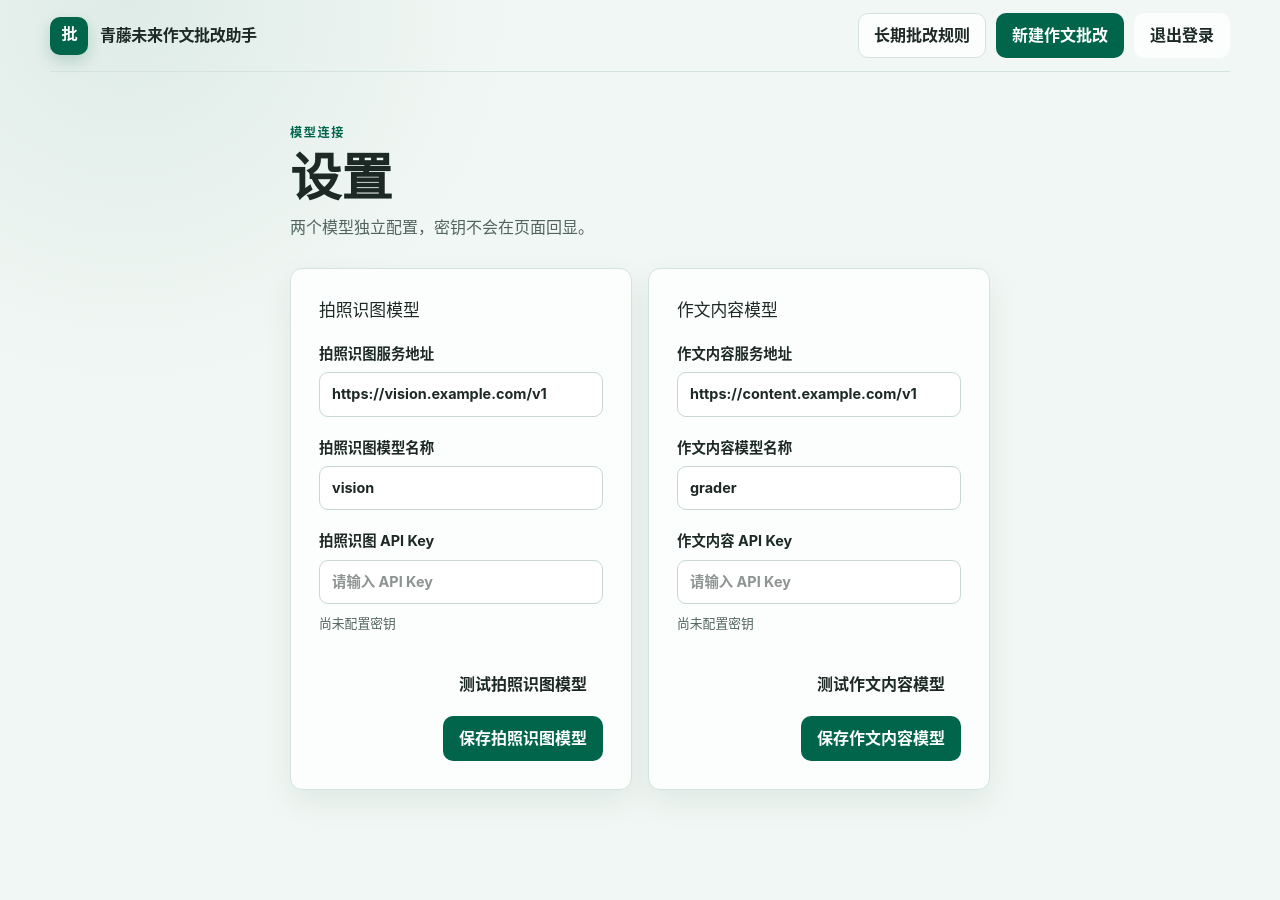
设置页 › 测试连接失败时展示服务端错误
Check: the field showing "grader" is shown, box [677,466,961,510]
In the password field labelled "作文内容 API Key": (819, 582) [677,560,961,604], type "secret"
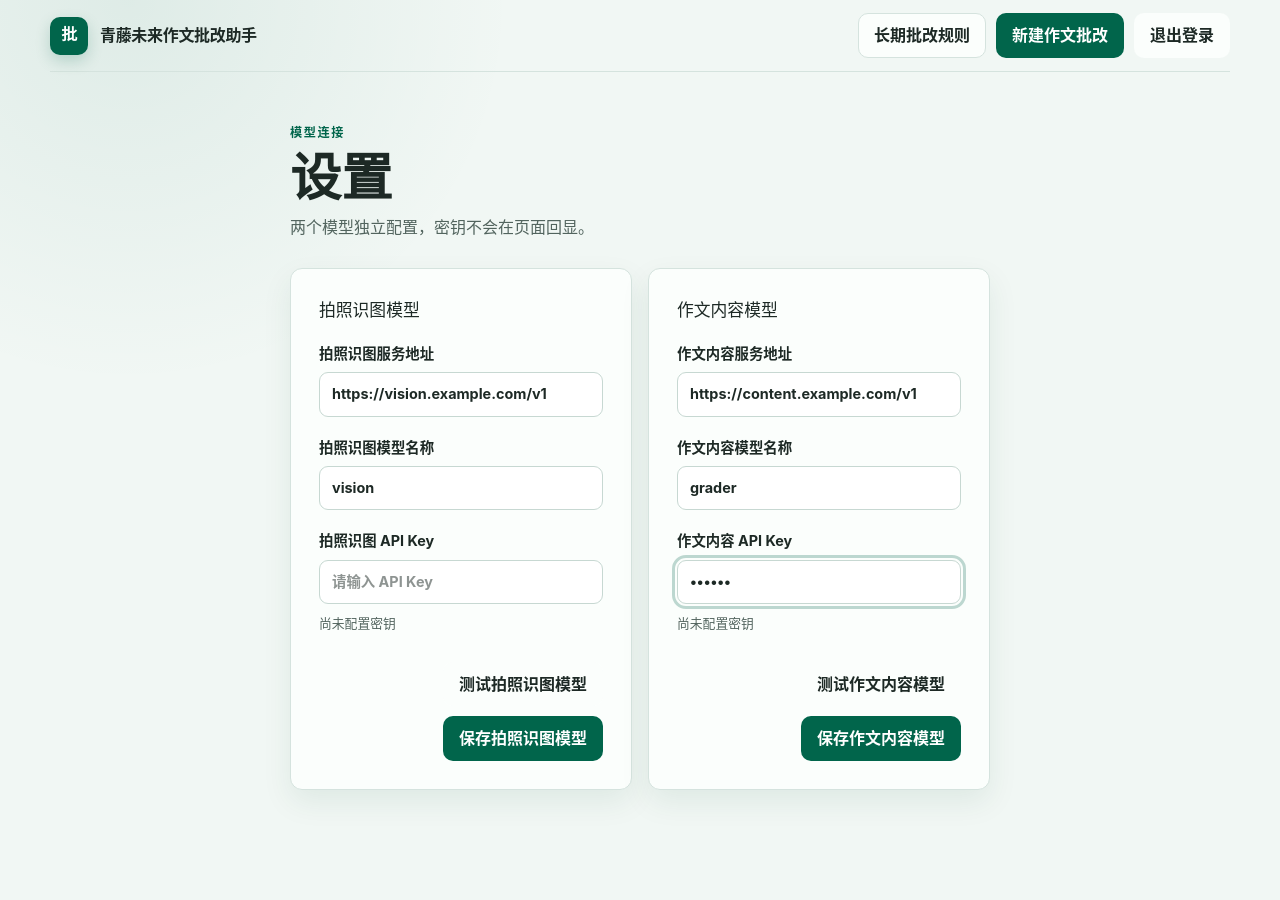
Click the button "测试作文内容模型": (881, 684) [801,662,961,706]
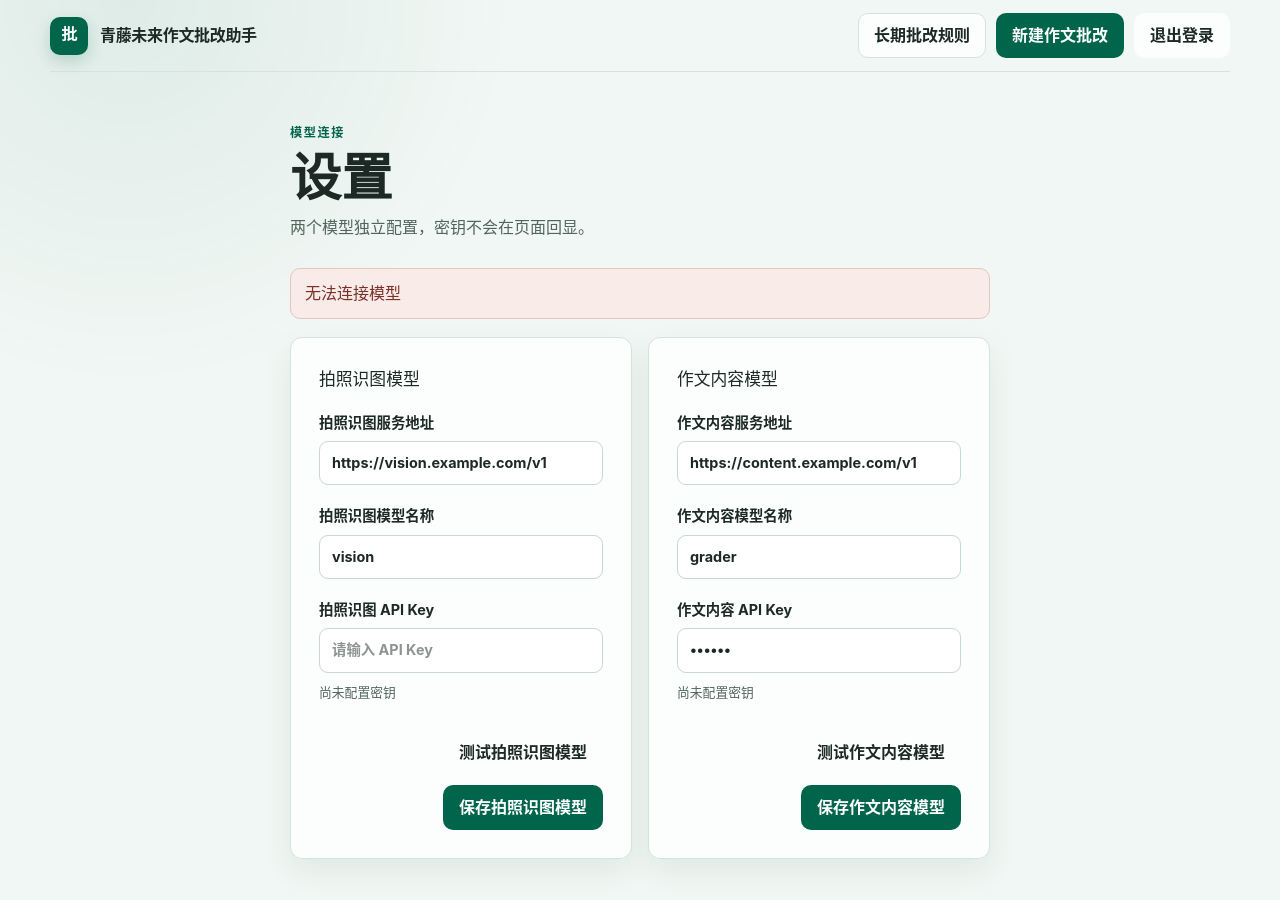
Check: the message reads "无法连接模型", box [305,283,401,303]
